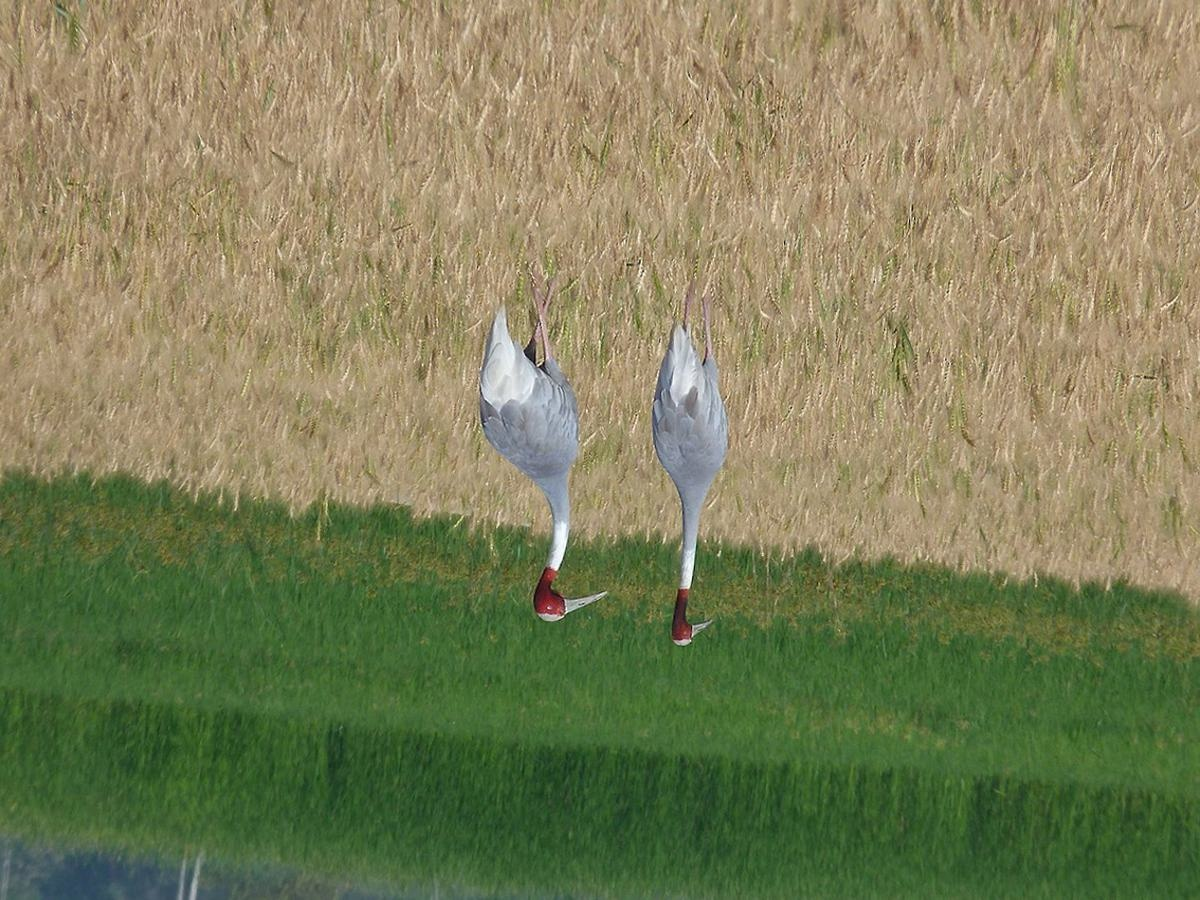crane: (468, 288, 624, 636), (649, 278, 731, 662)
